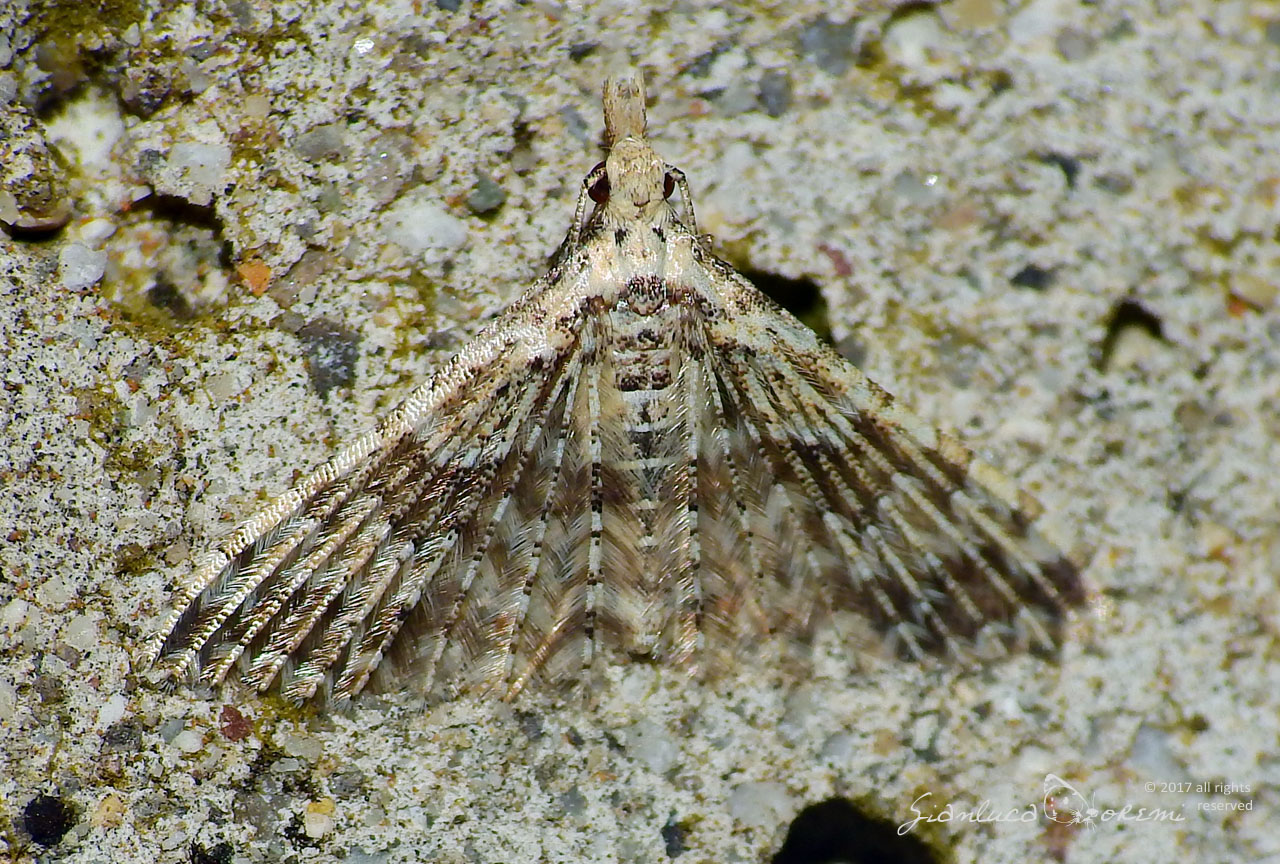Alucitidae: (135, 59, 1123, 708)
moth: (137, 61, 1125, 710)
